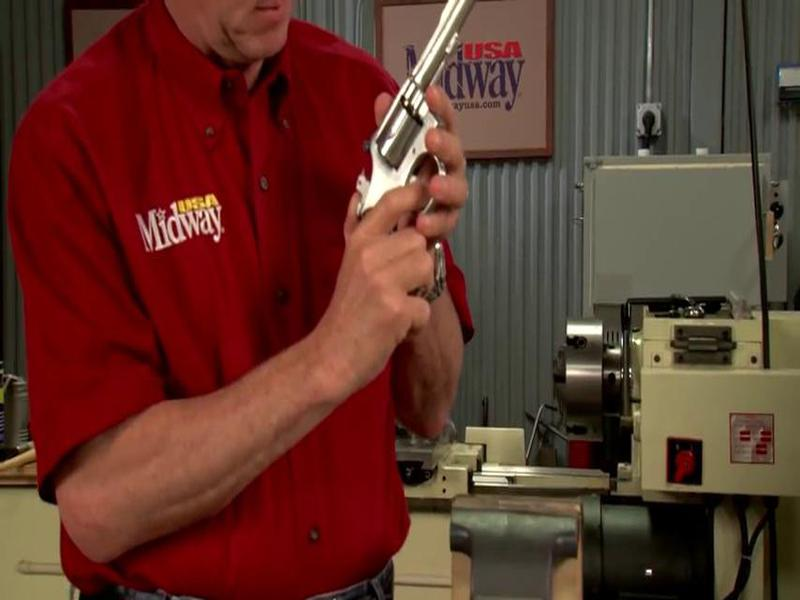Revolver: (319, 4, 492, 228)
